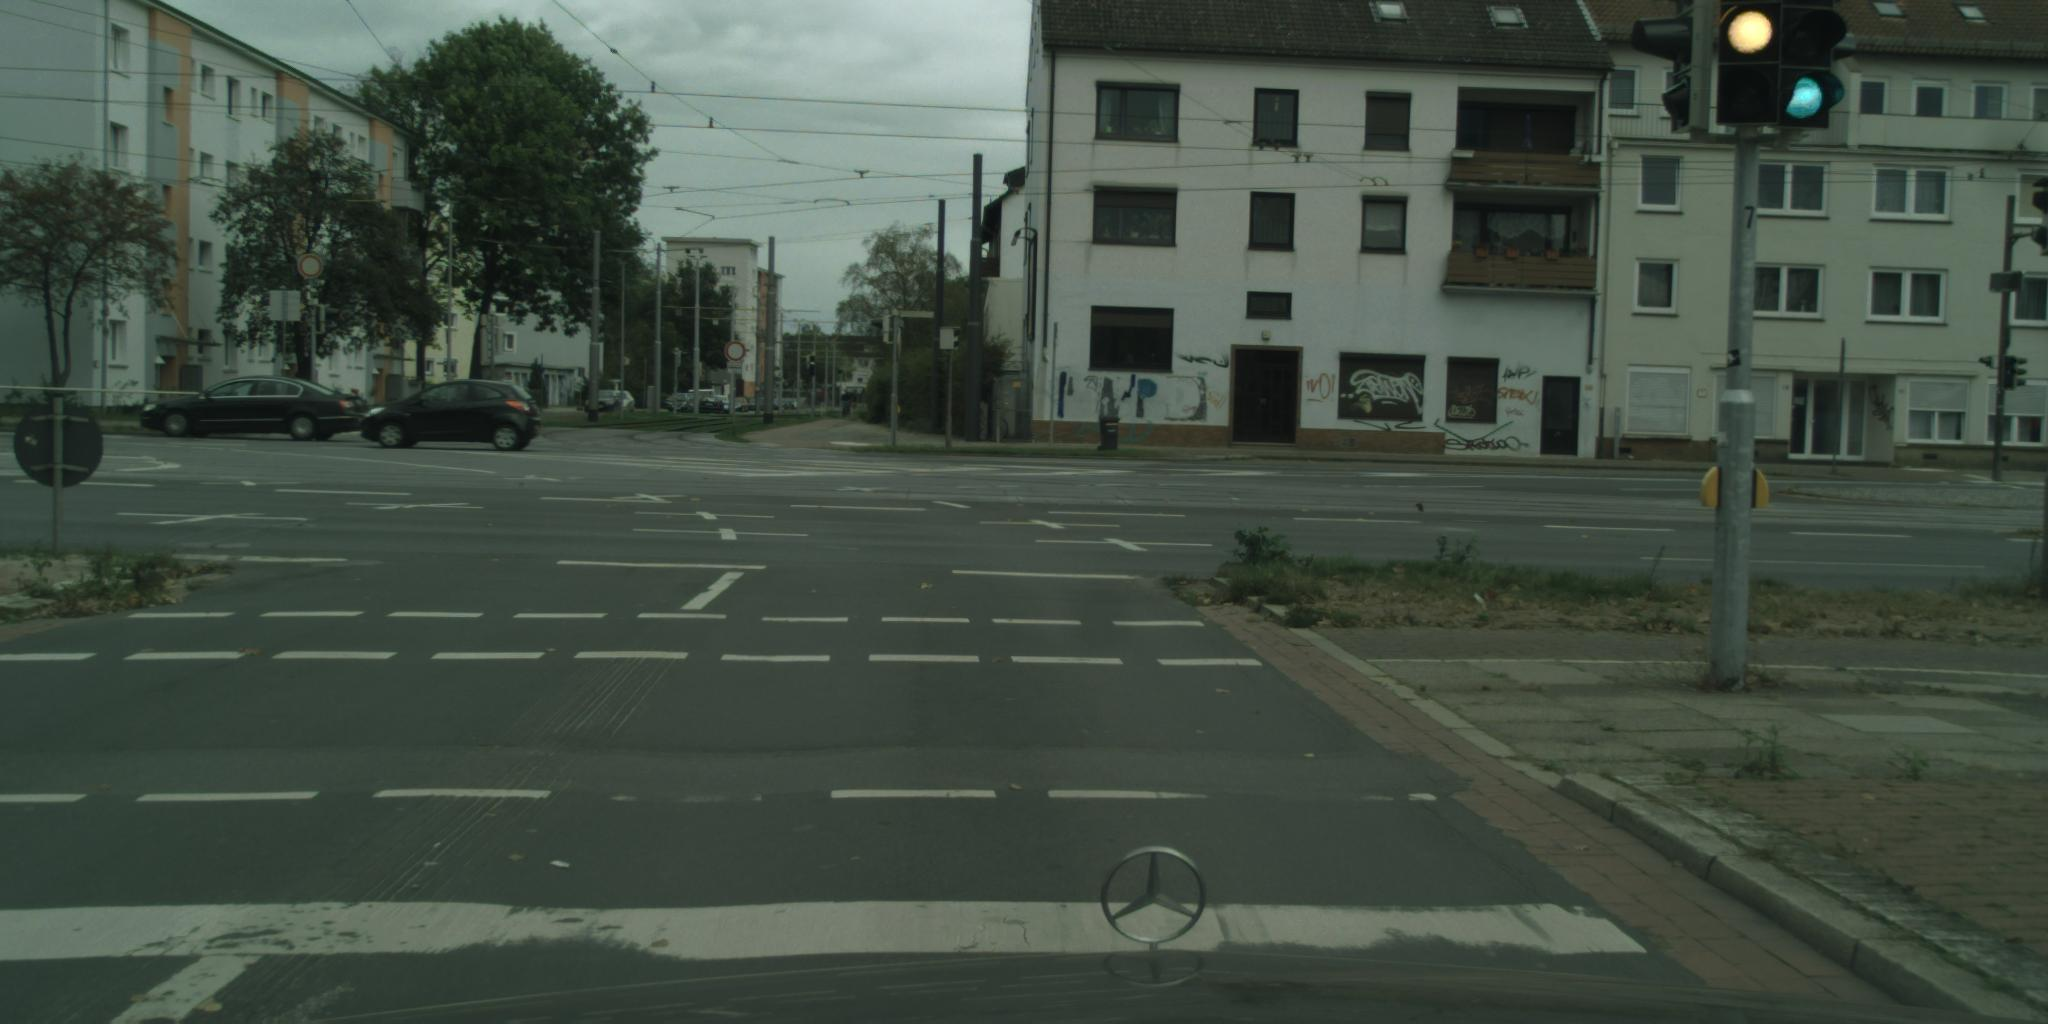car: (141, 376, 371, 441), (360, 380, 542, 453), (586, 392, 618, 411), (613, 392, 636, 414)
